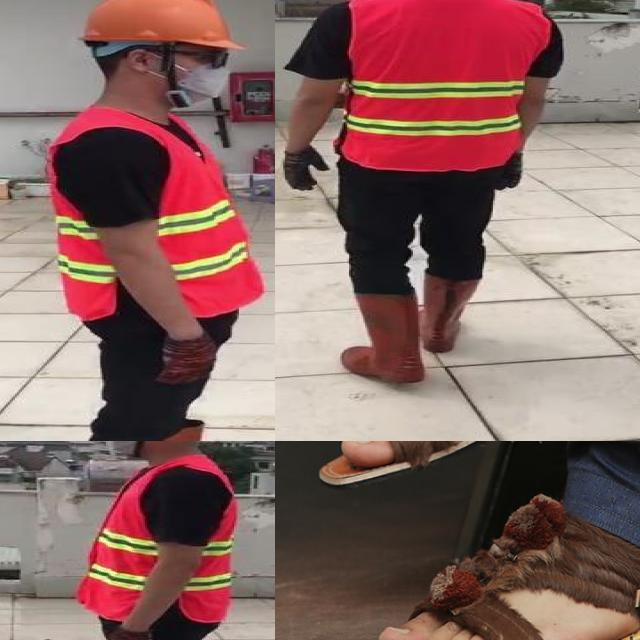Sandals: (359, 494, 640, 640)
boots: (340, 291, 422, 383), (420, 270, 481, 353)
face_mask: (162, 45, 247, 106), (96, 441, 149, 457)
hand_glove: (154, 336, 216, 387), (284, 148, 329, 190), (496, 156, 526, 191), (104, 628, 155, 640)
head_helmet: (275, 0, 568, 384), (76, 0, 238, 53)
person: (22, 0, 275, 441), (43, 441, 258, 640)
vest: (47, 108, 262, 320), (345, 0, 542, 168), (80, 457, 238, 622)
